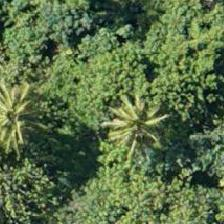coconut_tree: (91, 79, 181, 169), (0, 74, 58, 164)
